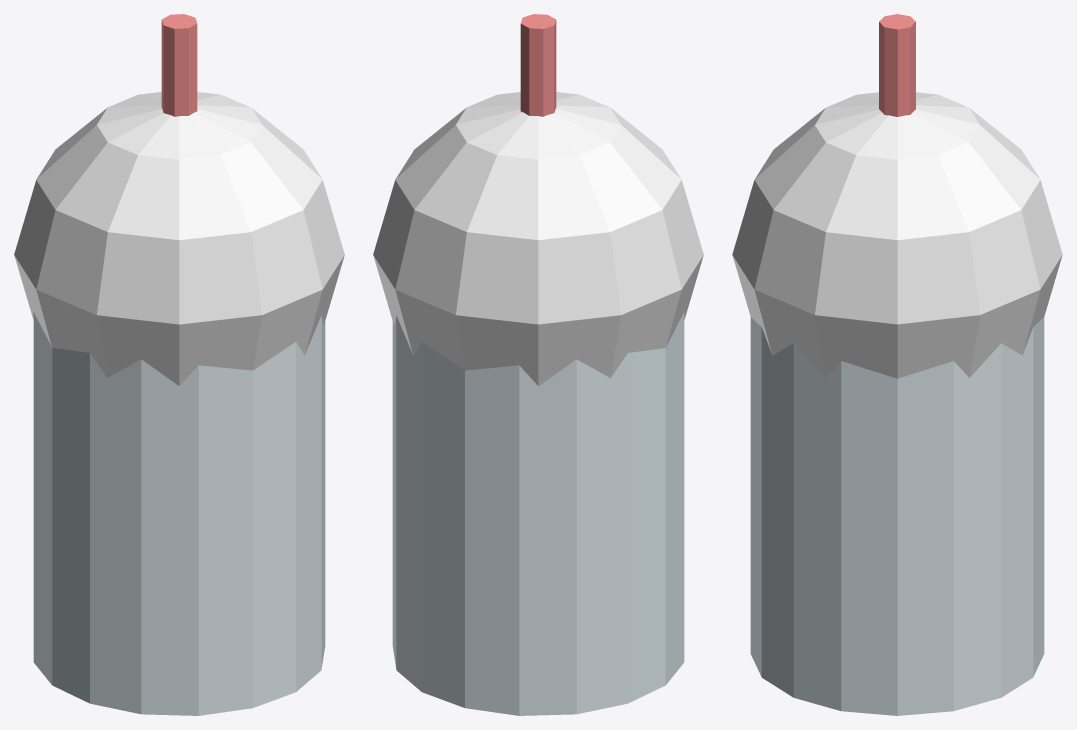
Rendered from milkshake.glb.
3 views of the same model, side by side, from view 1: azimuth 30°, elevation 25°; view 2: azimuth 150°, elevation 25°; view 3: azimuth 270°, elevation 25° (orthographic).
Size of the model in its own units: 0.18 by 0.38 by 0.18.
